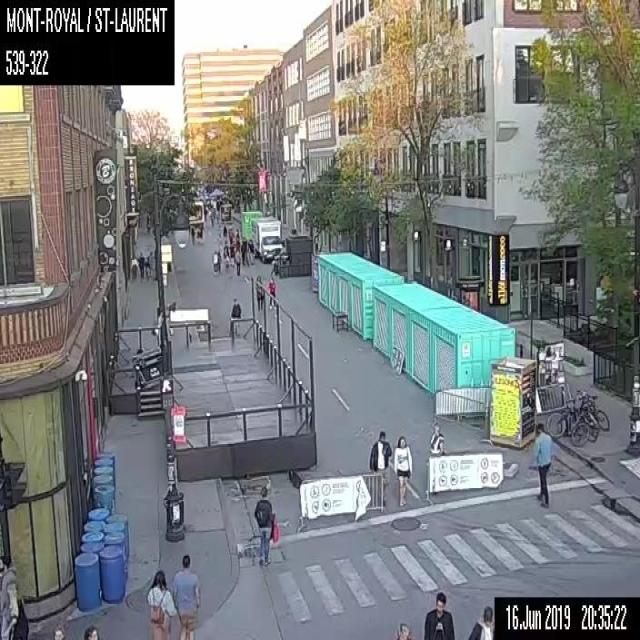construction: (296, 471, 384, 533), (424, 446, 504, 498)
pedestrian: (170, 554, 200, 639), (0, 554, 28, 638), (144, 568, 177, 638), (253, 485, 279, 567), (368, 430, 392, 506), (422, 590, 454, 638), (533, 422, 552, 502), (392, 434, 412, 504), (467, 605, 494, 639), (428, 423, 444, 457), (230, 297, 240, 336), (266, 274, 276, 309), (255, 274, 264, 310), (395, 622, 412, 638), (240, 235, 248, 265), (82, 625, 98, 639), (212, 249, 220, 275), (146, 250, 154, 276), (51, 625, 65, 639), (222, 240, 229, 266), (137, 251, 144, 277), (248, 238, 254, 264), (234, 248, 240, 274), (143, 256, 150, 276), (229, 242, 234, 265), (228, 226, 234, 245), (198, 222, 204, 240), (234, 236, 240, 251), (217, 249, 221, 271), (190, 226, 195, 243), (234, 227, 239, 243), (222, 224, 226, 243), (217, 224, 221, 239), (216, 209, 220, 224), (196, 229, 199, 243)
vehicle: (250, 215, 284, 260)
